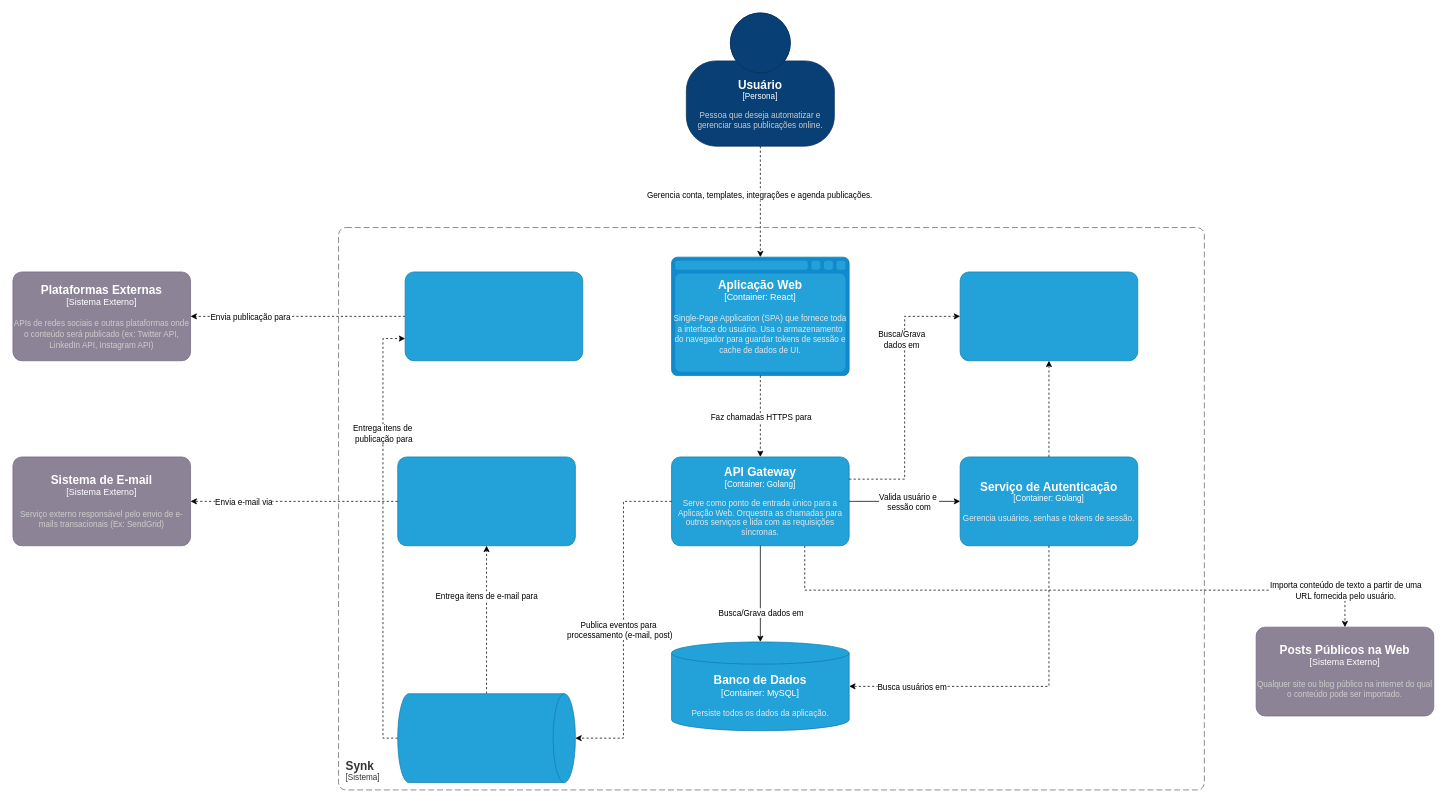
Some shapes in this 1447 by 803 pixel diagram are drawn without their labels. Here are the shapes that lost their labels. From the top down, the centre of each, then its label:
(493,316): Serviço de Publicação [Container: Golang] Processa a fila de publicações.
(1048,316): Cache Remoto [Container: Redis] Armazena sessões e cache de "dados quentes".
(486,501): Serviço de E-mails [Container: Golang] Processa a fila de e-mails para envio.
(486,738): Gerenciador de Filas [Container: RabbitMQ] Fila para desacoplar tarefas pesadas.
